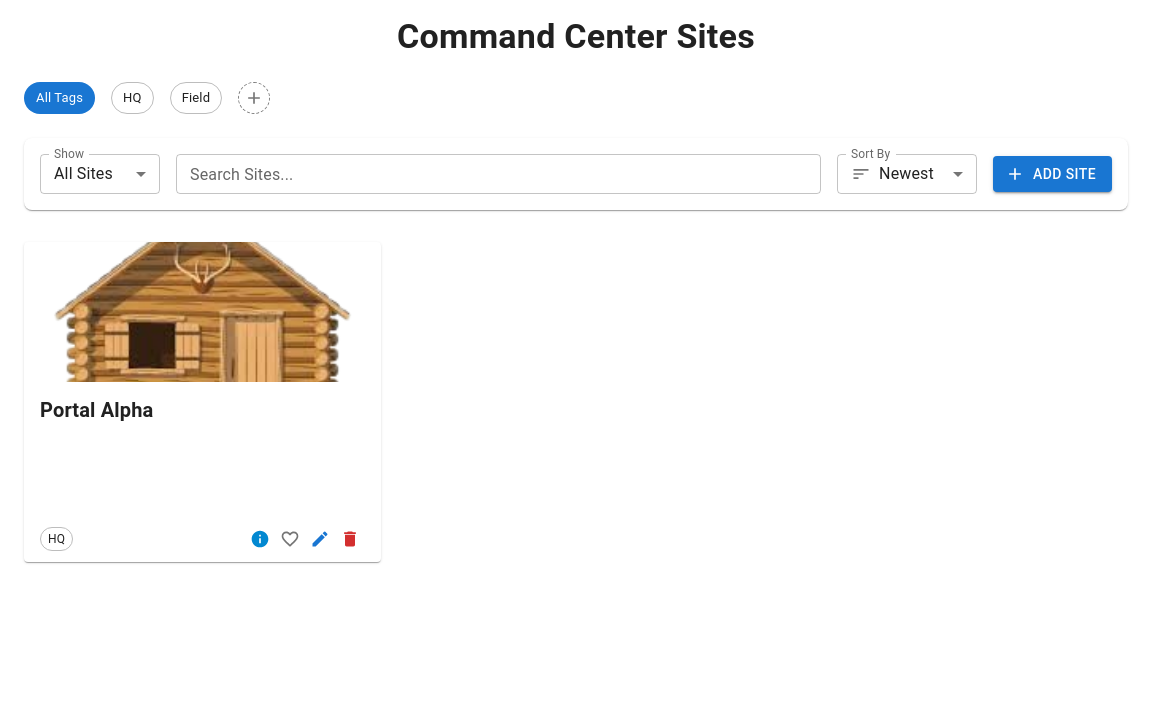
it: Home Page & Form Accessibility (WCAG 2.2 AA Compliance) › Accessible Names on ARIA Inputs (WCAG 2.2 SC 4.1.2 & SC 1.3.1) › SitesPage Tag Dialog provides an accessible name for Tag Name input
// Click the Create new tag button to open dialog
What coordinates should you click on to do the following:
click the button named "Create new tag"
I would click on:
 (254, 98)
Its box is [238,82,270,114].
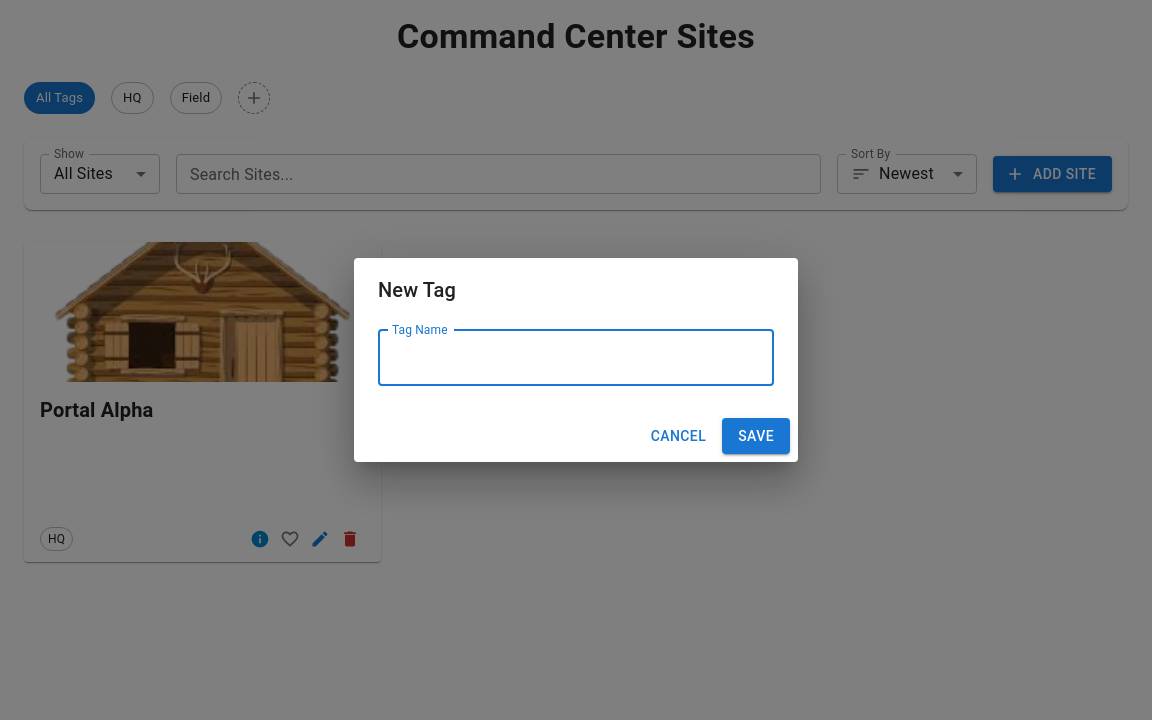
Result: the field labelled "Tag Name" is shown at [378,330,774,386]
